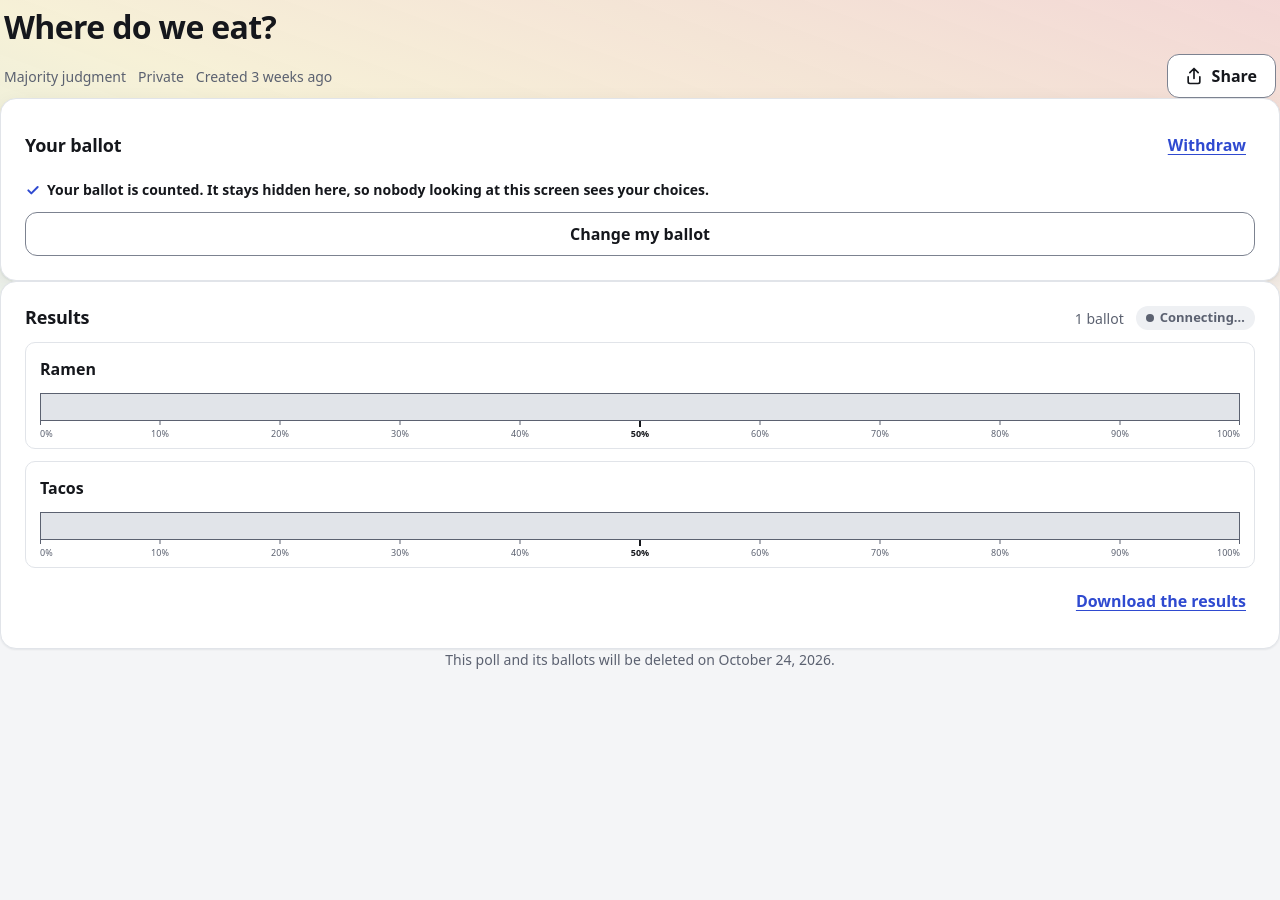
Test case: voting › lets the voter withdraw their ballot
Click the button "Withdraw". click: coordinates (1207, 145)
box: x1=1159 y1=123 x2=1255 y2=167
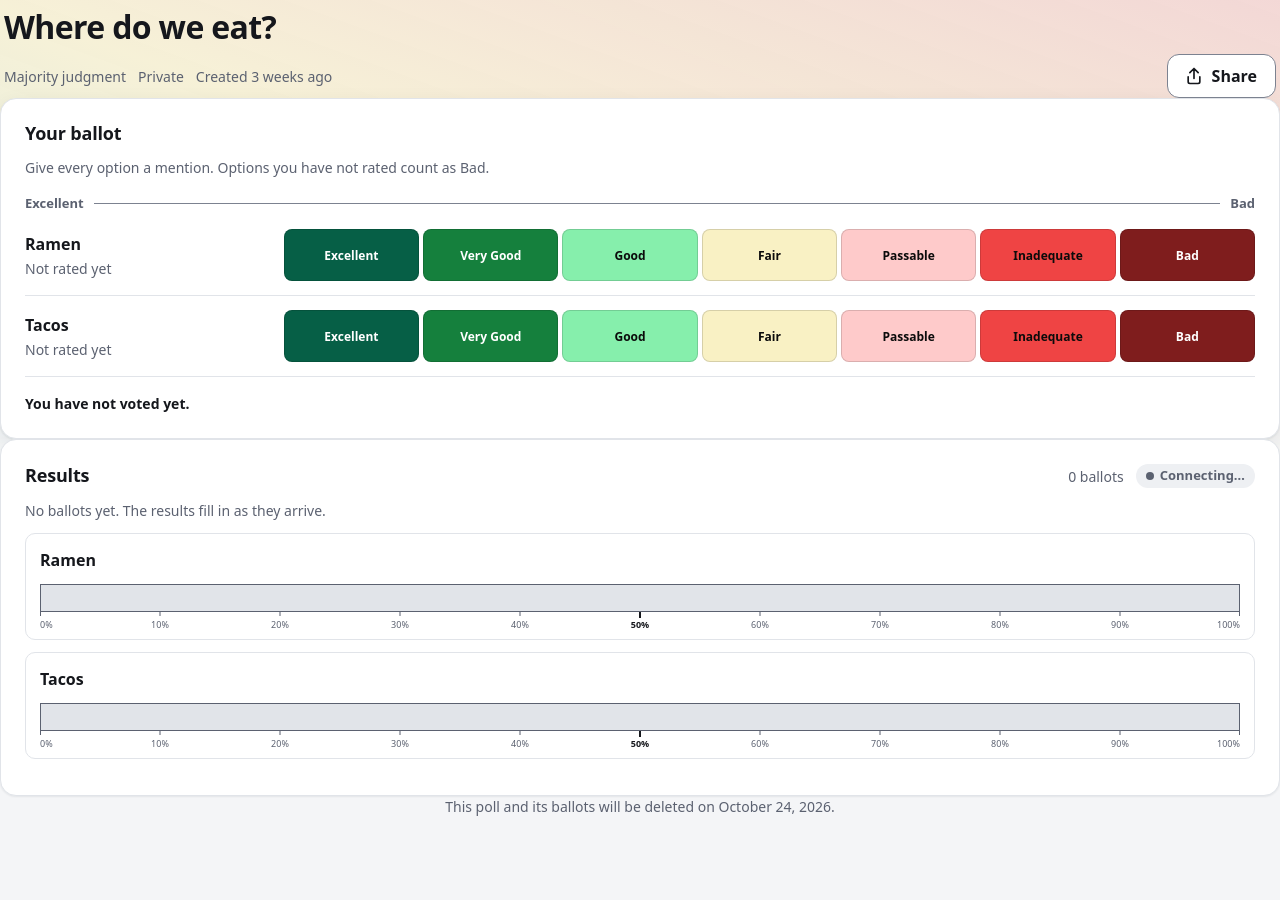
Check: the text "You have not voted yet." is shown, box x1=25 y1=394 x2=190 y2=414
